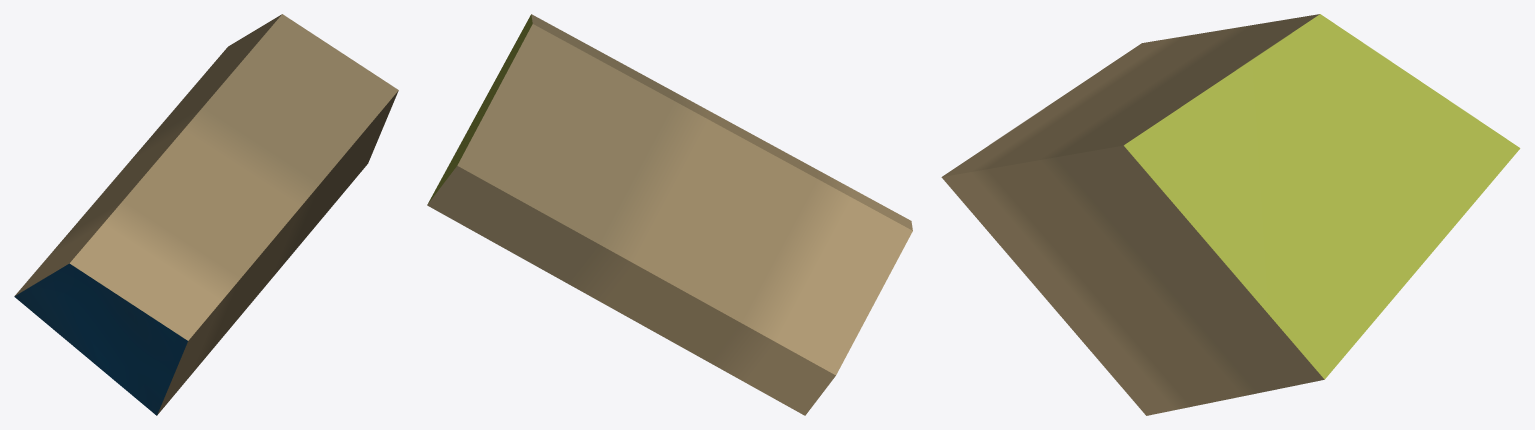
Rendered from 0662_Mauritius.glb.
3 renders of one model, left to right at view 1: azimuth 30°, elevation 25°; view 2: azimuth 150°, elevation 25°; view 3: azimuth 270°, elevation 25°, orthographic. The views are drawn at different scales.
Visible parts, largest first — view 1: part_0; view 2: part_0; view 3: part_0.
Part boxes in pixels (box(x1,y1,x2,y2)): part_0: box(14, 14, 398, 415); part_0: box(427, 14, 912, 415); part_0: box(941, 14, 1520, 415).
Bounding box in the file's own units: 0.2249 × 0.1963 × 0.1877.
1 material, 1 textured.
